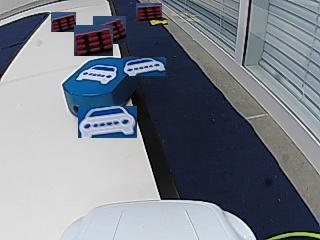safety: (78, 64, 118, 84)
